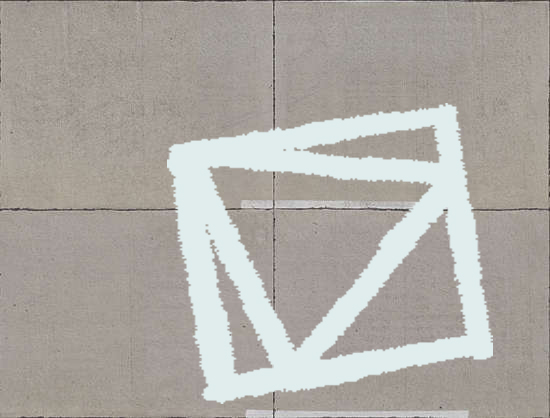marker: (159, 96, 505, 406)
